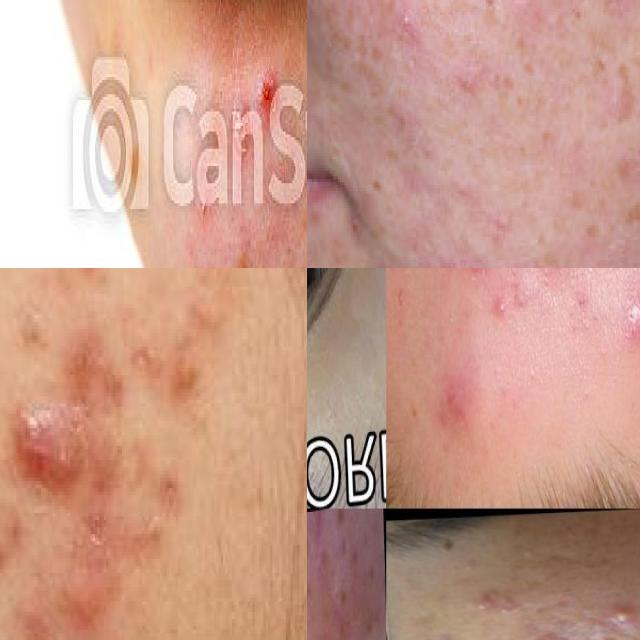comedone: (510, 540, 552, 574), (455, 544, 482, 576), (308, 617, 341, 640), (350, 533, 364, 574), (591, 623, 624, 640)
cystic: (10, 389, 79, 506), (612, 278, 640, 361)
papule: (431, 366, 478, 454), (70, 580, 110, 634)
pustule: (593, 595, 640, 626)
sebo-crystan-conglo: (481, 278, 524, 329), (478, 576, 507, 613)
